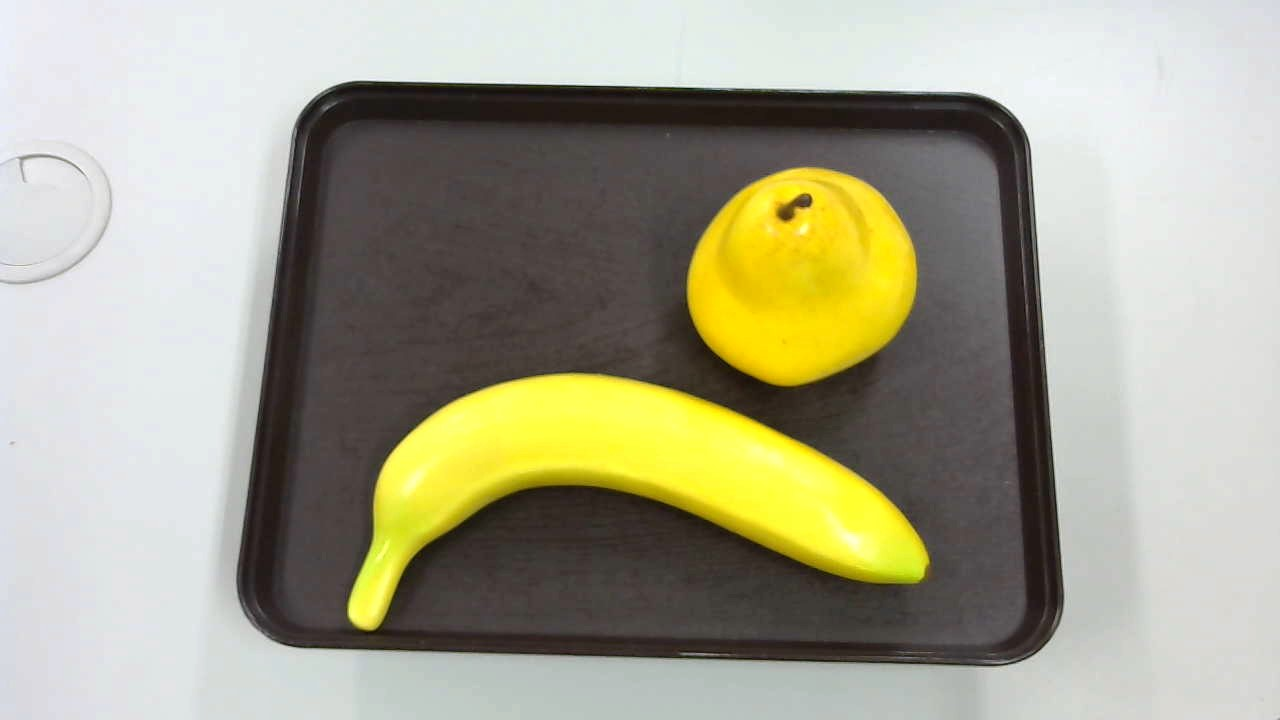banana: (338, 369, 928, 639)
yellow pear: (689, 167, 921, 388)
